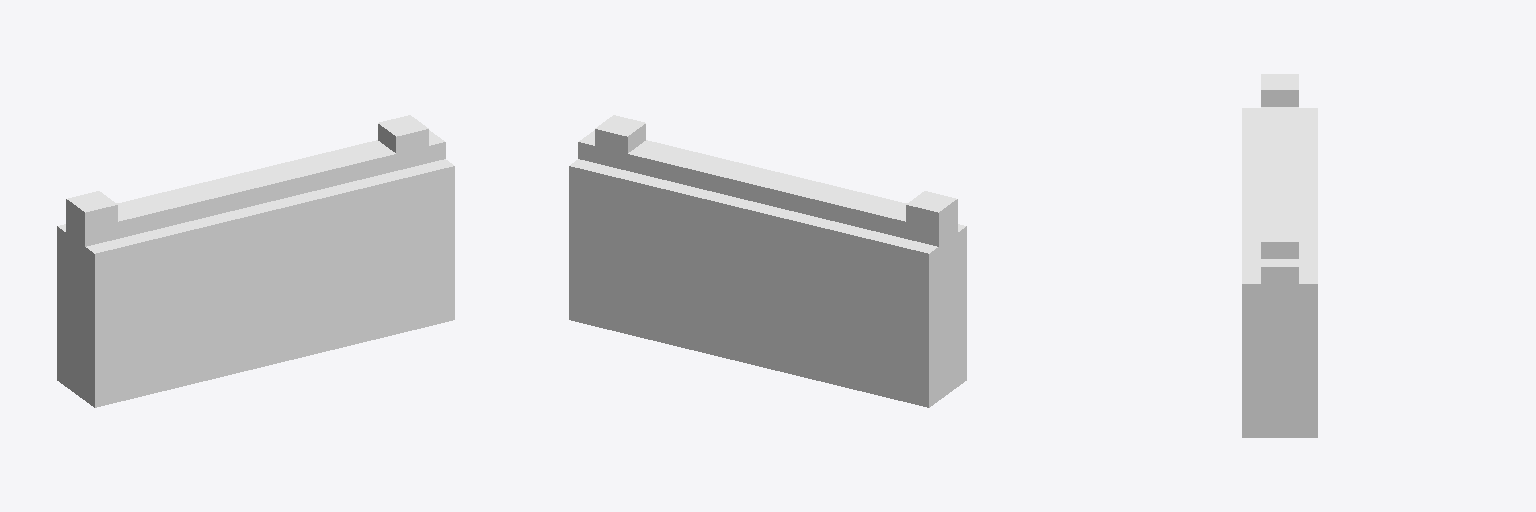
The model's file is DoorBlueLeft.obj.
The picture shows the model from 3 angles: view 1: azimuth 30°, elevation 25°; view 2: azimuth 150°, elevation 25°; view 3: azimuth 270°, elevation 25°; orthographic projection.
Bounding box in the file's own units: 22 × 11 × 4.